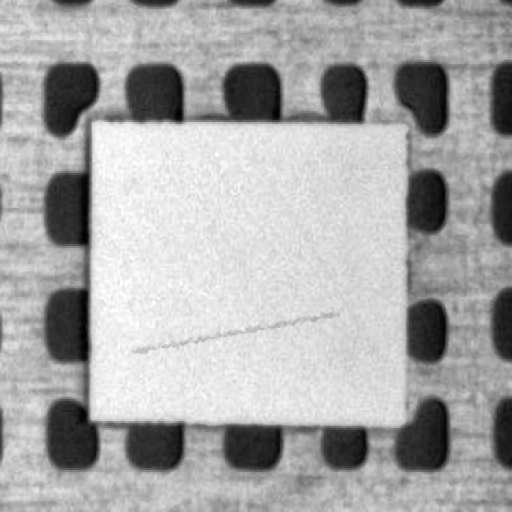DIE_CRACK: (175, 234, 448, 264)
